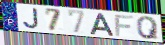7: (67, 9, 88, 35), (44, 7, 65, 32)
A: (90, 12, 115, 36)
F: (114, 14, 135, 37)
J: (23, 7, 40, 30)
Q: (135, 16, 161, 40)
